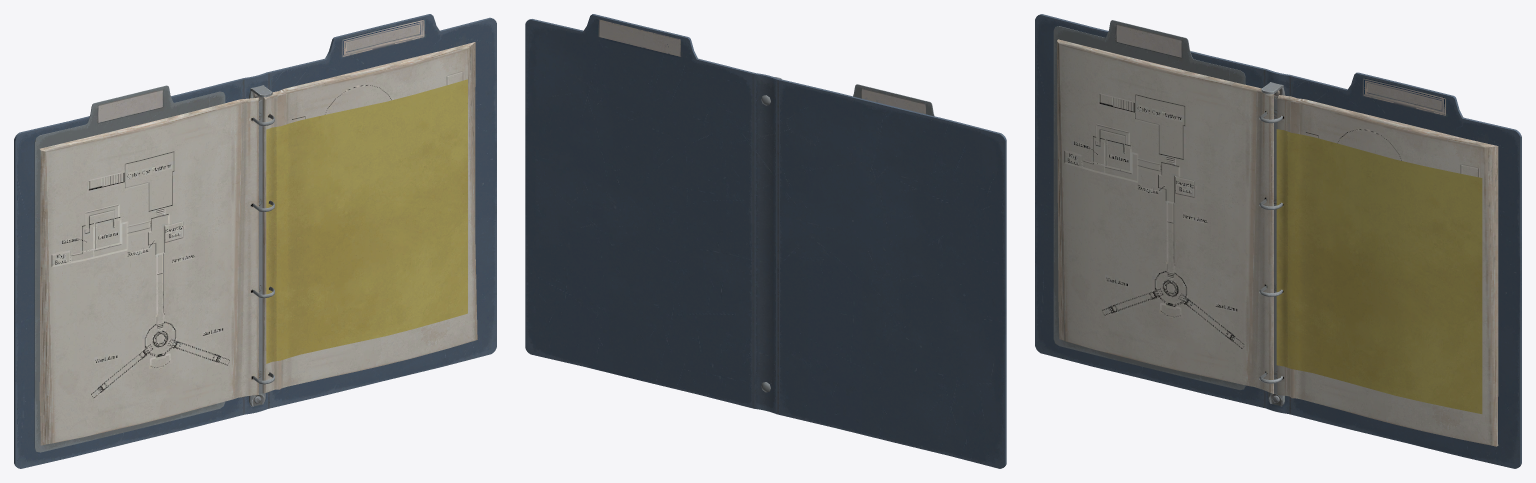
File: sm74_106_maplaboratoryhigh01a.fbx
3 renders of one model, left to right at view 1: azimuth 30°, elevation 25°; view 2: azimuth 150°, elevation 25°; view 3: azimuth 330°, elevation 25°, orthographic.
Visible parts, largest first — view 1: LOD_1_Group_0_Sub_1__sm74_106_MapLaboratoryHigh01A_A_Mat; view 2: LOD_1_Group_0_Sub_1__sm74_106_MapLaboratoryHigh01A_A_Mat; view 3: LOD_1_Group_0_Sub_1__sm74_106_MapLaboratoryHigh01A_A_Mat.
Part boxes in pixels (bbox=[...]): LOD_1_Group_0_Sub_1__sm74_106_MapLaboratoryHigh01A_A_Mat: bbox=[14, 14, 496, 468]; LOD_1_Group_0_Sub_1__sm74_106_MapLaboratoryHigh01A_A_Mat: bbox=[525, 14, 1006, 468]; LOD_1_Group_0_Sub_1__sm74_106_MapLaboratoryHigh01A_A_Mat: bbox=[1035, 14, 1521, 468].
Bounding box in the file's own units: 0.3319 × 0.2337 × 0.0171.
